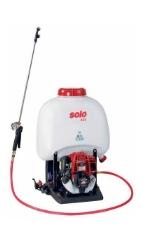PULVERISATEUR: (8, 1, 143, 238)
